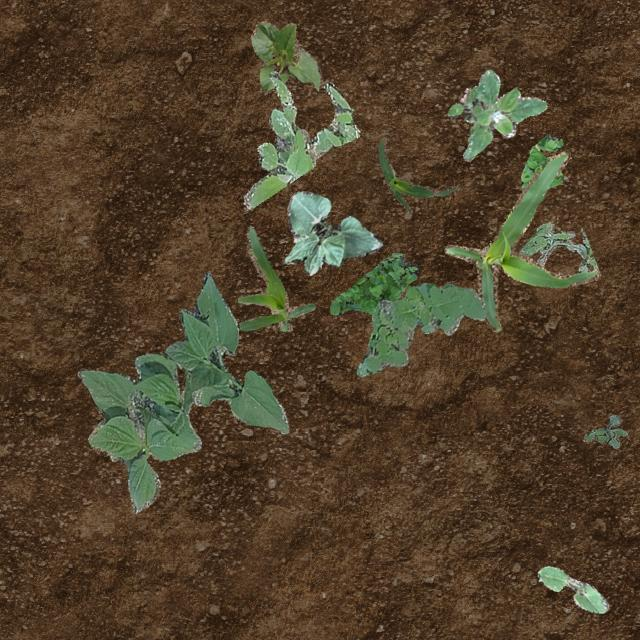crop: (76, 272, 288, 514), (442, 150, 600, 330), (280, 190, 382, 274), (237, 224, 314, 330), (378, 136, 460, 212), (250, 20, 322, 94), (536, 564, 608, 612)
weed: (242, 70, 360, 210), (356, 282, 484, 376), (446, 68, 546, 160), (328, 252, 418, 314), (518, 220, 598, 272), (520, 132, 562, 188), (582, 413, 626, 448)
